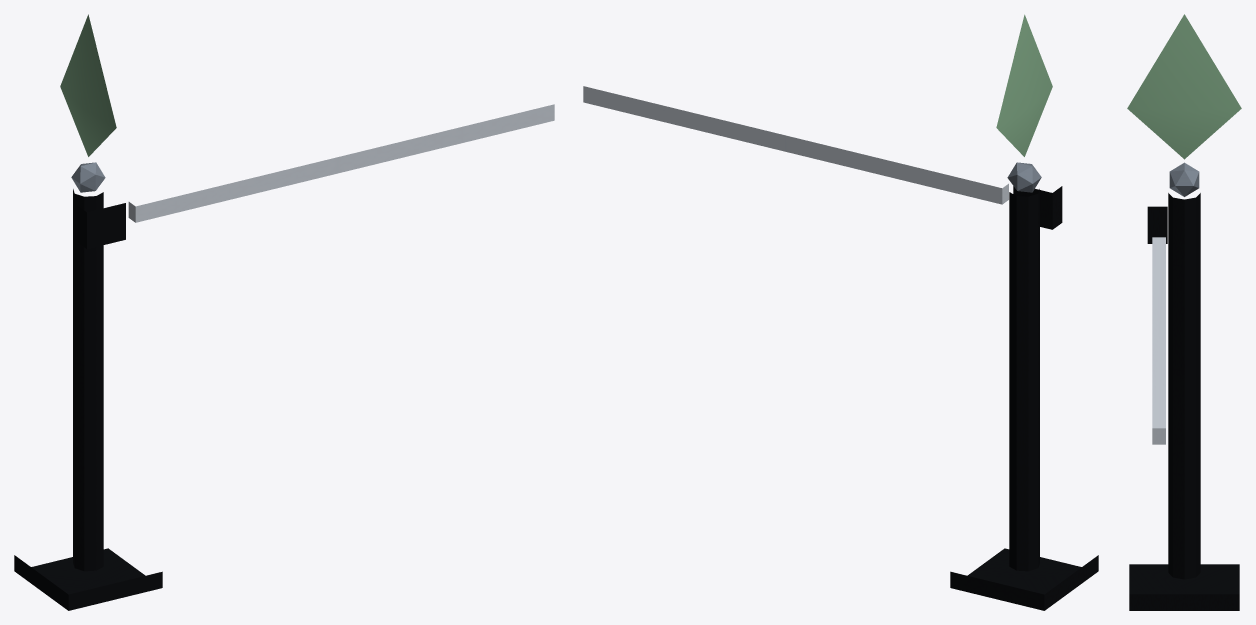
Rendered from v3_branch_stanchion.glb.
3 views of the same model, side by side, from view 1: azimuth 30°, elevation 25°; view 2: azimuth 150°, elevation 25°; view 3: azimuth 270°, elevation 25° (orthographic).
Parts seen in each view (by area): view 1: Post, Belt, Leaf_Cap, Post_Cap; view 2: Post, Belt, Leaf_Cap, Post_Cap; view 3: Post, Leaf_Cap, Belt, Post_Cap.
Boxes of the visible parts, x1,y1,x2,y2 form: Post: (14,189,162,610); Belt: (128,104,554,222); Leaf_Cap: (60,14,116,156); Post_Cap: (71,162,105,192); Post: (950,186,1098,610); Belt: (583,86,1008,204); Leaf_Cap: (996,14,1052,156); Post_Cap: (1007,162,1041,192); Post: (1129,193,1239,610); Leaf_Cap: (1127,14,1241,159); Belt: (1152,237,1165,444); Post_Cap: (1169,162,1199,196).
Size of what is drawn, in the model's own units: 1.27 by 1.38 by 0.25.
Materials: 4 (3 with a texture image).
